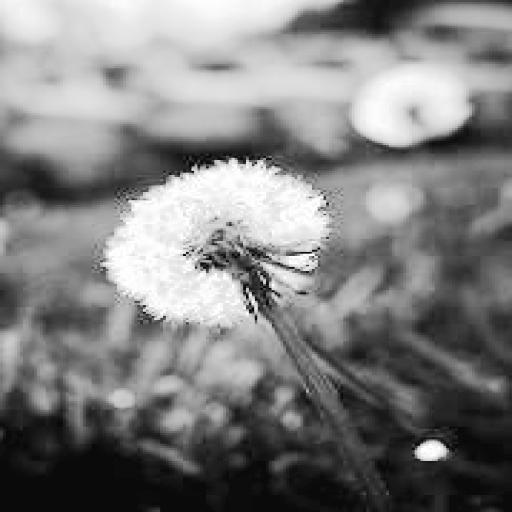dandelion: (109, 164, 323, 322)
